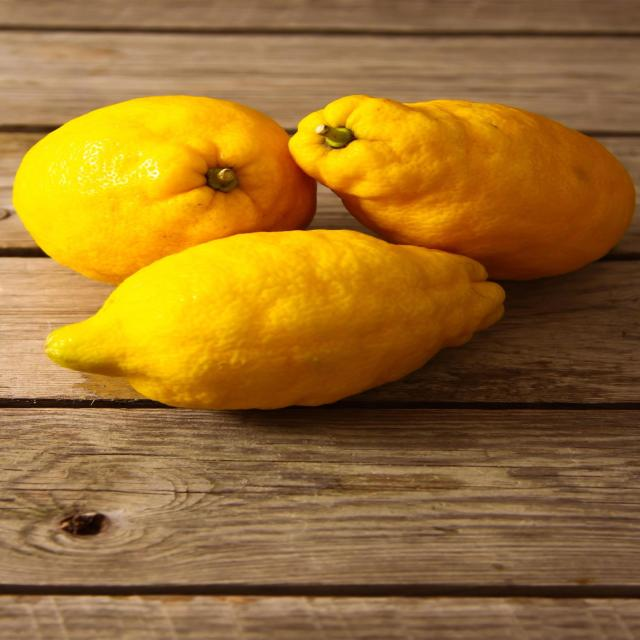lemon: (36, 224, 513, 410), (282, 90, 640, 282)
